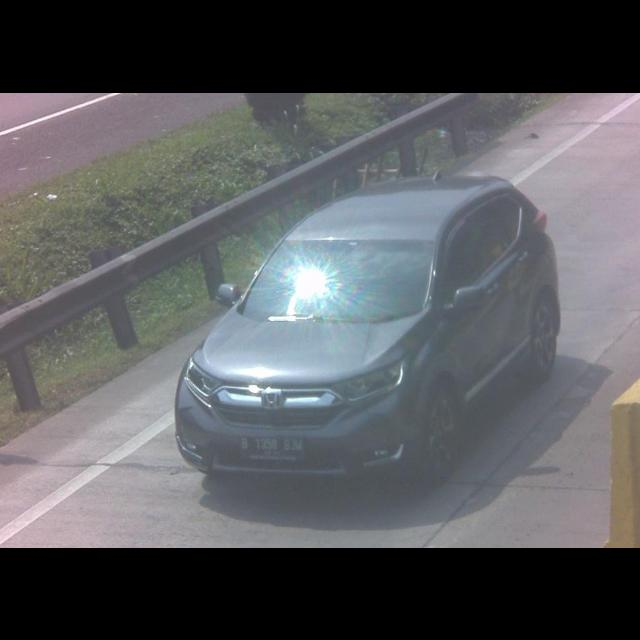plate: (235, 434, 308, 458)
